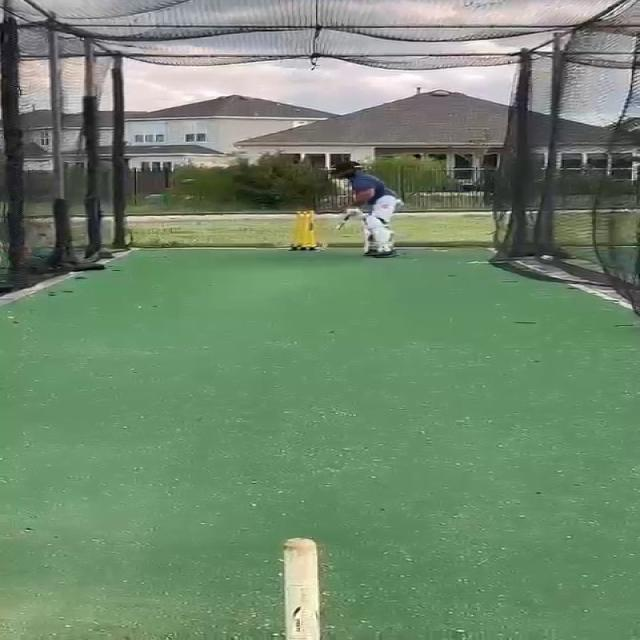batsman: (333, 159, 406, 259)
